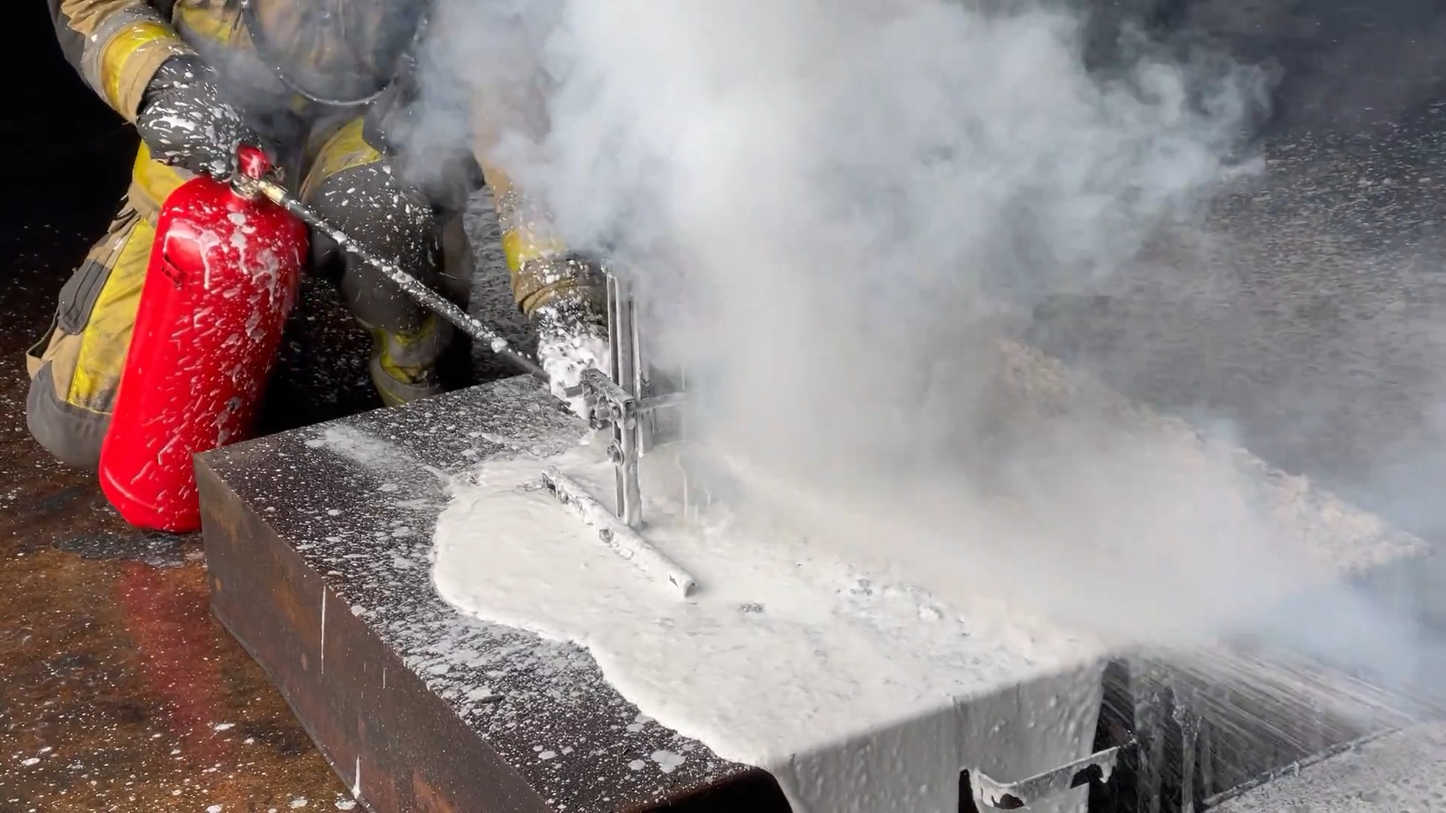smoke: (387, 0, 1431, 745)
